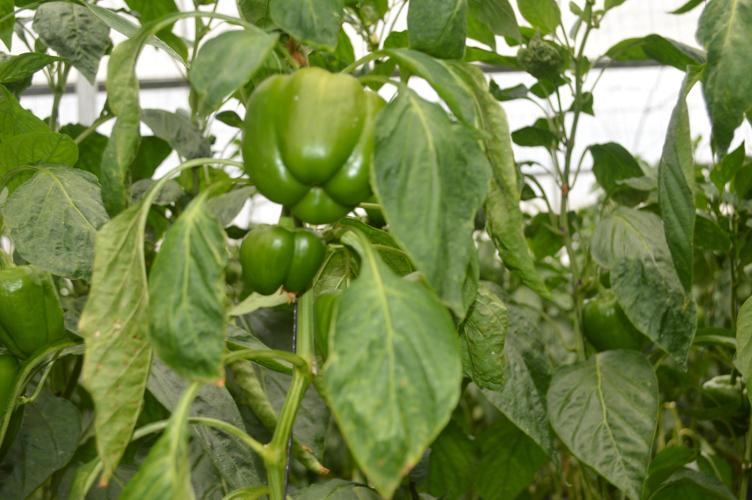BellPepper: (242, 69, 382, 217), (1, 262, 68, 351), (238, 226, 326, 293), (576, 297, 645, 354)
